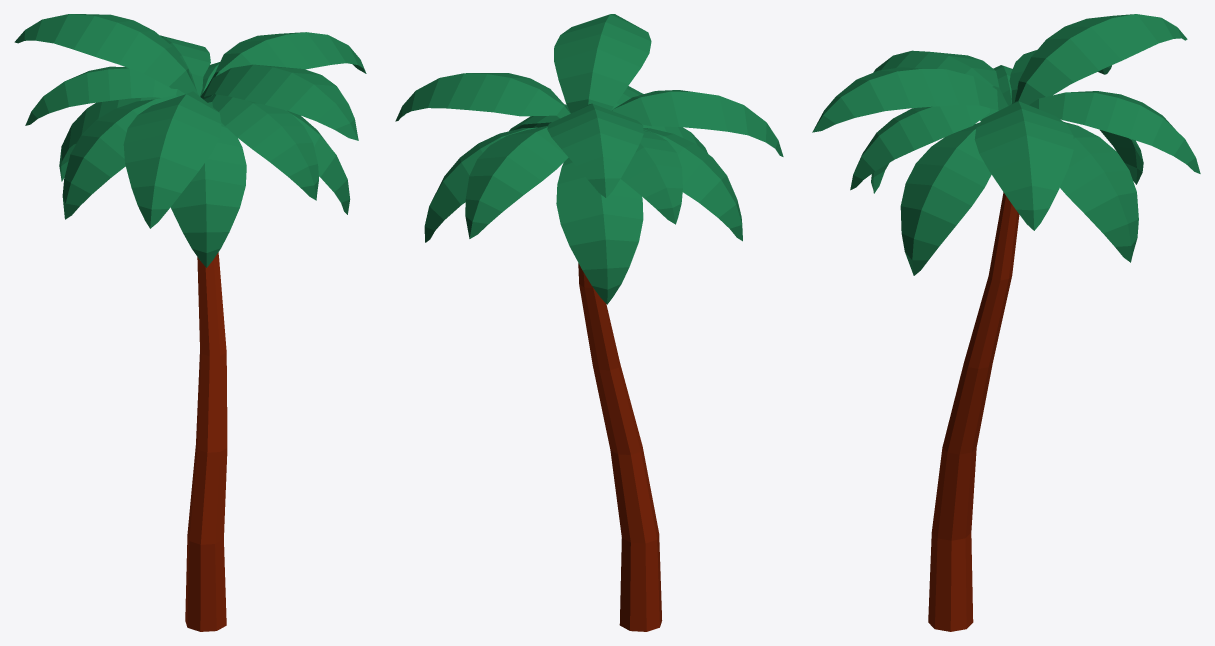
File: Palm_tree_Folhas_Verde_Escuro.fbx
3 renders of one model, left to right at view 1: azimuth 30°, elevation 25°; view 2: azimuth 150°, elevation 25°; view 3: azimuth 270°, elevation 25°, orthographic. The views are drawn at different scales.
Parts seen in each view (by area): view 1: Palm_tree_Folhas_Verde_Escuro; view 2: Palm_tree_Folhas_Verde_Escuro; view 3: Palm_tree_Folhas_Verde_Escuro.
Part boxes in pixels (<box>): Palm_tree_Folhas_Verde_Escuro: <box>14,14,366,631</box>; Palm_tree_Folhas_Verde_Escuro: <box>395,14,783,631</box>; Palm_tree_Folhas_Verde_Escuro: <box>812,14,1200,631</box>.
Bounding box in the file's own units: 324 × 540 × 324.
